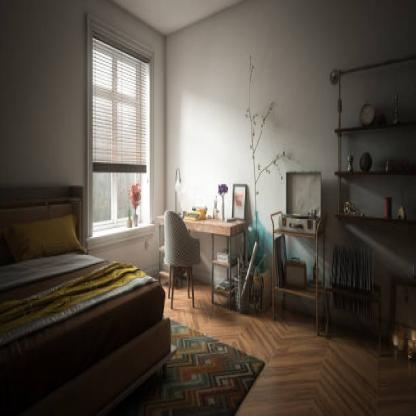Window: (86, 16, 156, 238)
